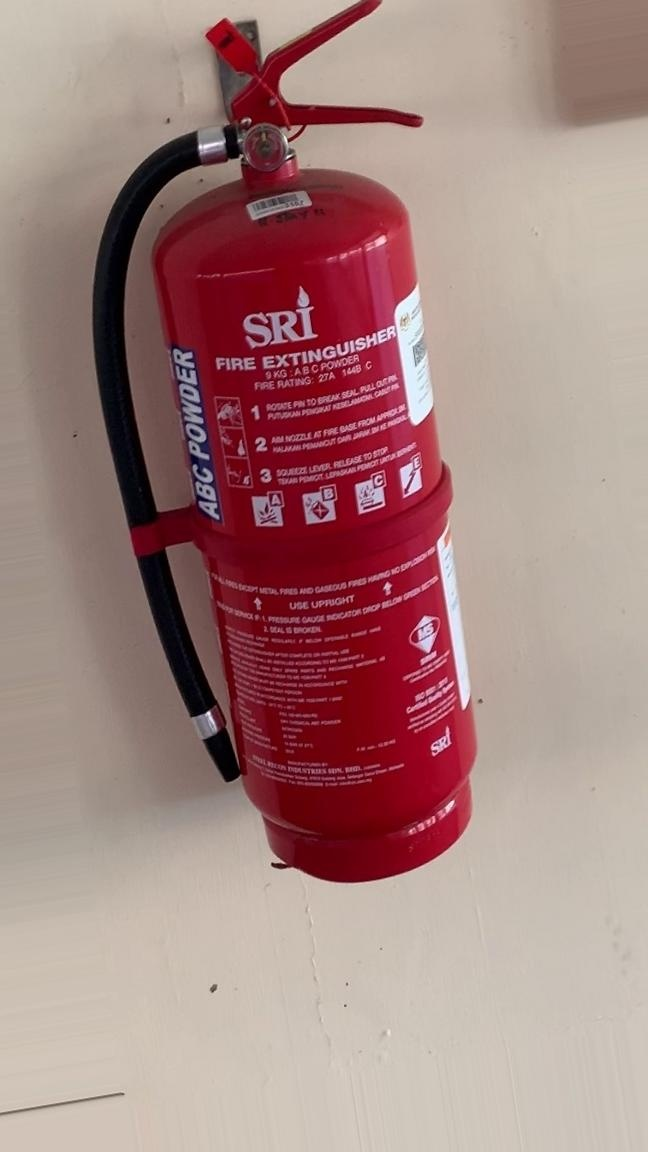fire_extinguisher: (91, 2, 479, 884)
